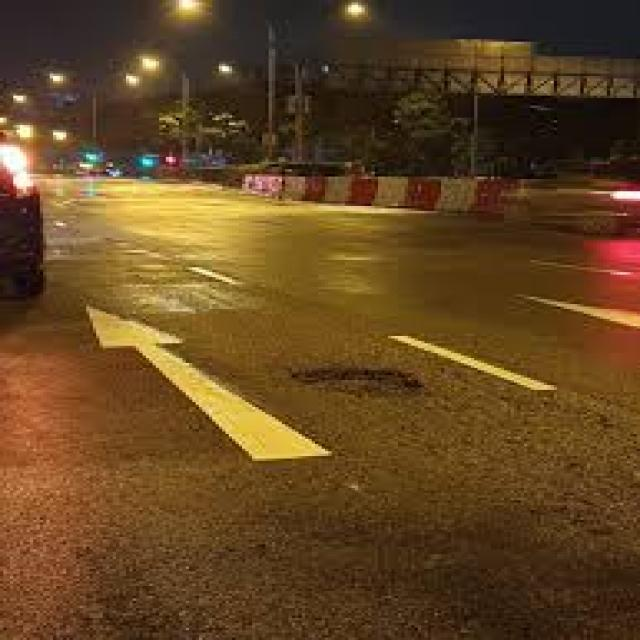Pothole: (291, 364, 424, 395)
